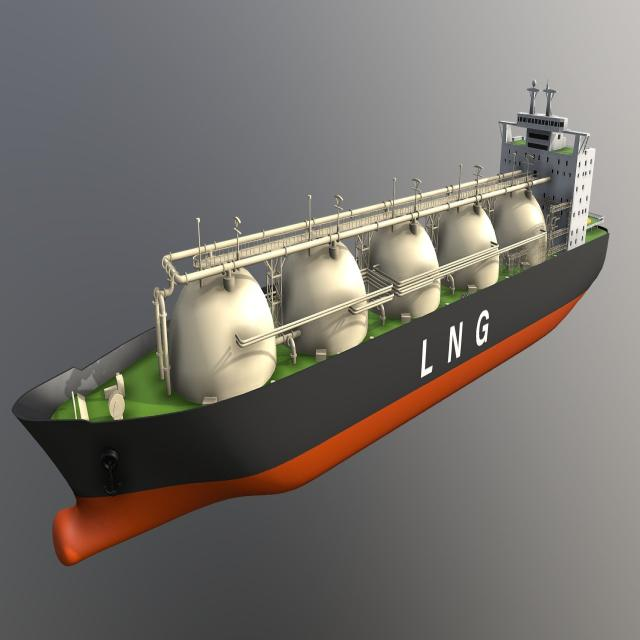boat: (14, 87, 634, 578)
